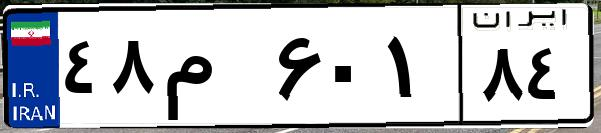0: (330, 28, 385, 110)
1: (385, 28, 445, 110)
4: (57, 26, 110, 100), (525, 38, 570, 115)
6: (270, 28, 330, 110)
8: (475, 38, 525, 113), (110, 28, 158, 98)
م: (158, 20, 270, 120)
